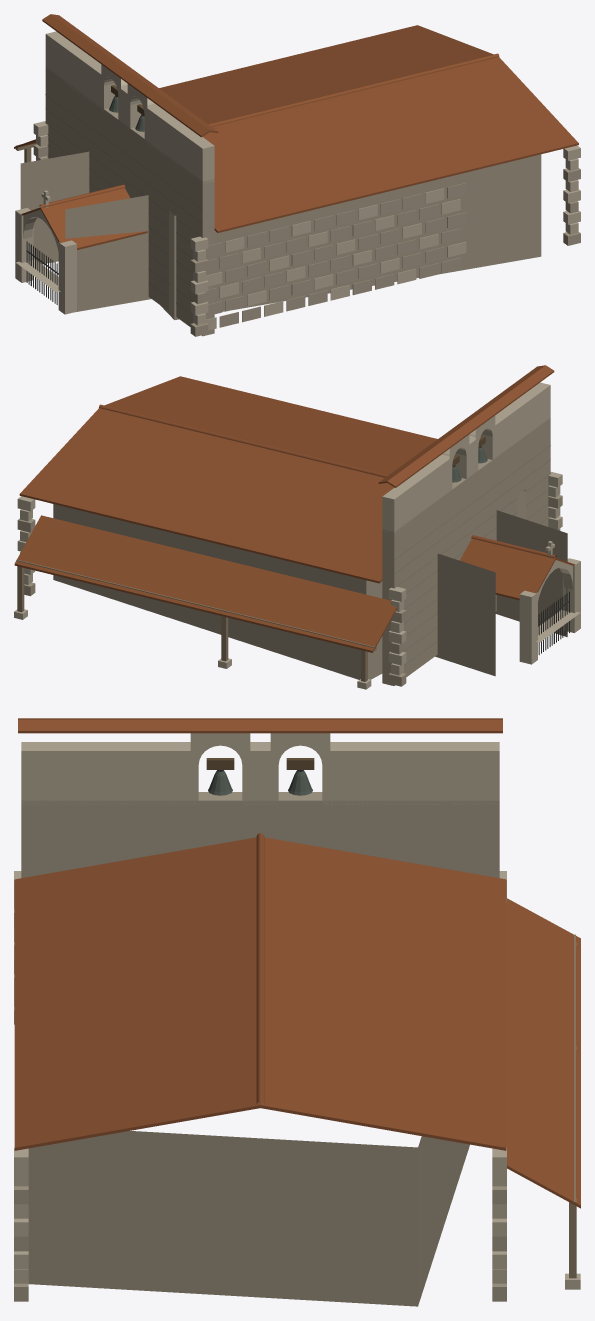
The model's file is ermita.glb.
3 views of the same model, one above another, from view 1: azimuth 30°, elevation 25°; view 2: azimuth 150°, elevation 25°; view 3: azimuth 270°, elevation 25° (orthographic). The views are drawn at different scales.
Visible parts, largest first — view 1: oca:ermita; view 2: oca:ermita; view 3: oca:ermita.
Boxes of the visible parts, x1,y1,x2,y2 form: oca:ermita: (14, 14, 580, 336); oca:ermita: (14, 365, 580, 689); oca:ermita: (14, 718, 580, 1306).
Bounding box in the file's own units: 25.1 × 10.75 × 17.43.
